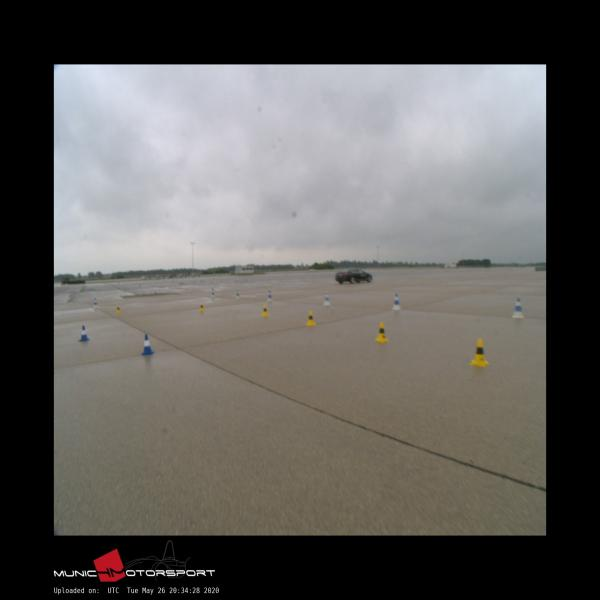blue_cone: (142, 335, 154, 355), (79, 326, 90, 341)
yellow_cone: (469, 338, 489, 366), (376, 322, 389, 343), (306, 311, 316, 326), (262, 305, 269, 316), (199, 303, 205, 312), (116, 304, 121, 313)
